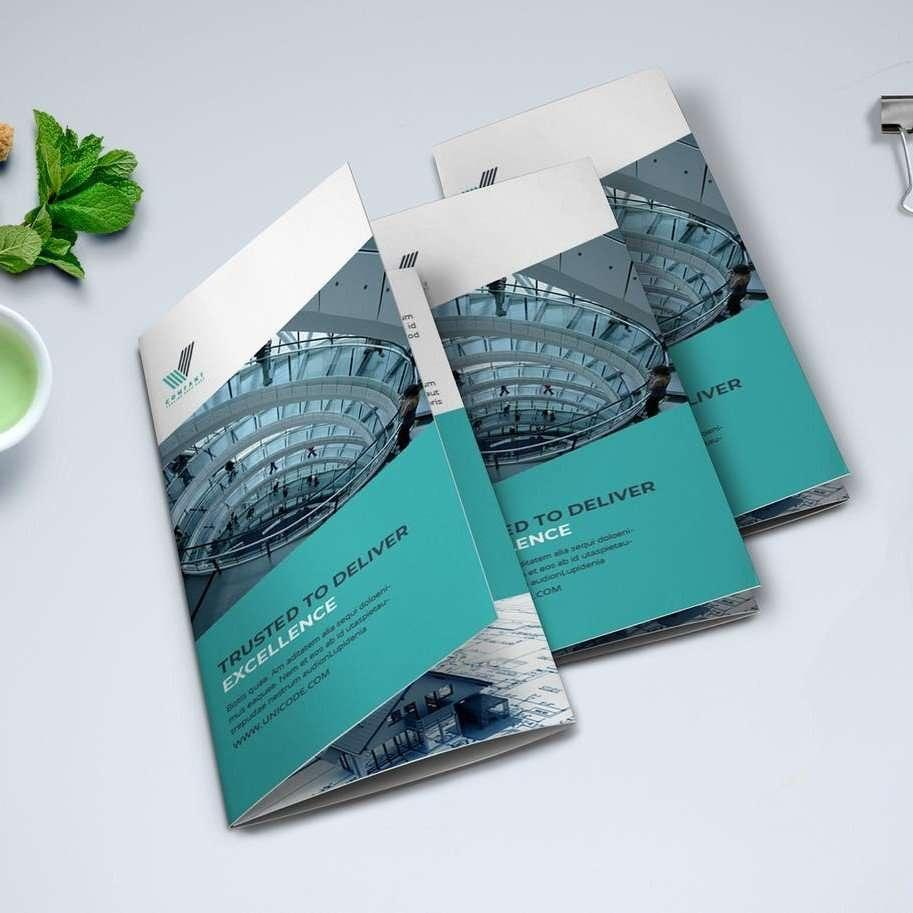paper: (139, 70, 850, 831), (157, 328, 427, 637)
